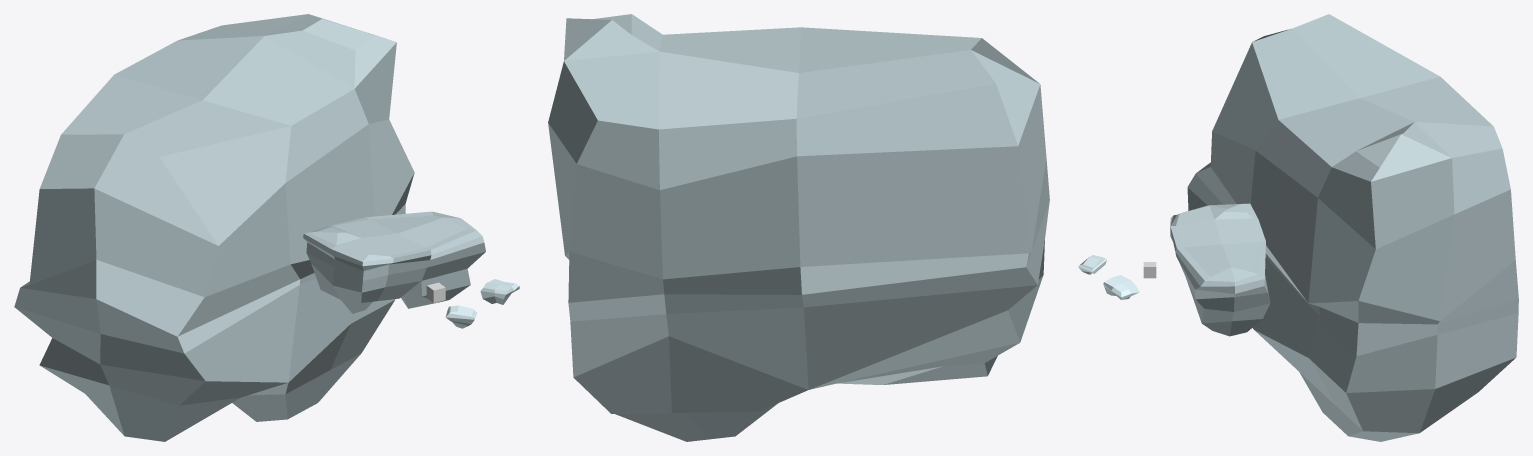
The model's file is iceberg.gltf.
The picture shows the model from 3 angles, left to right: view 1: azimuth 30°, elevation 25°; view 2: azimuth 150°, elevation 25°; view 3: azimuth 270°, elevation 25°; orthographic projection. The views are drawn at different scales.
Parts seen in each view (by area): view 1: Iceberg_Inviorment; view 2: Iceberg_Inviorment; view 3: Iceberg_Inviorment.
Part boxes in pixels (x1,y1,x2,y2): Iceberg_Inviorment: [14, 14, 519, 441]; Iceberg_Inviorment: [548, 14, 1049, 441]; Iceberg_Inviorment: [1078, 14, 1518, 441].
Bounding box in the file's own units: 68.44 × 58.86 × 70.89.
